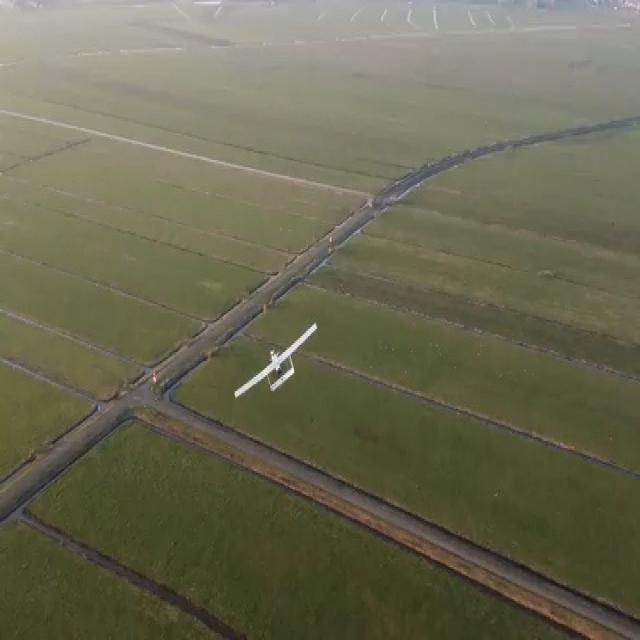iha: (264, 350, 293, 376)
